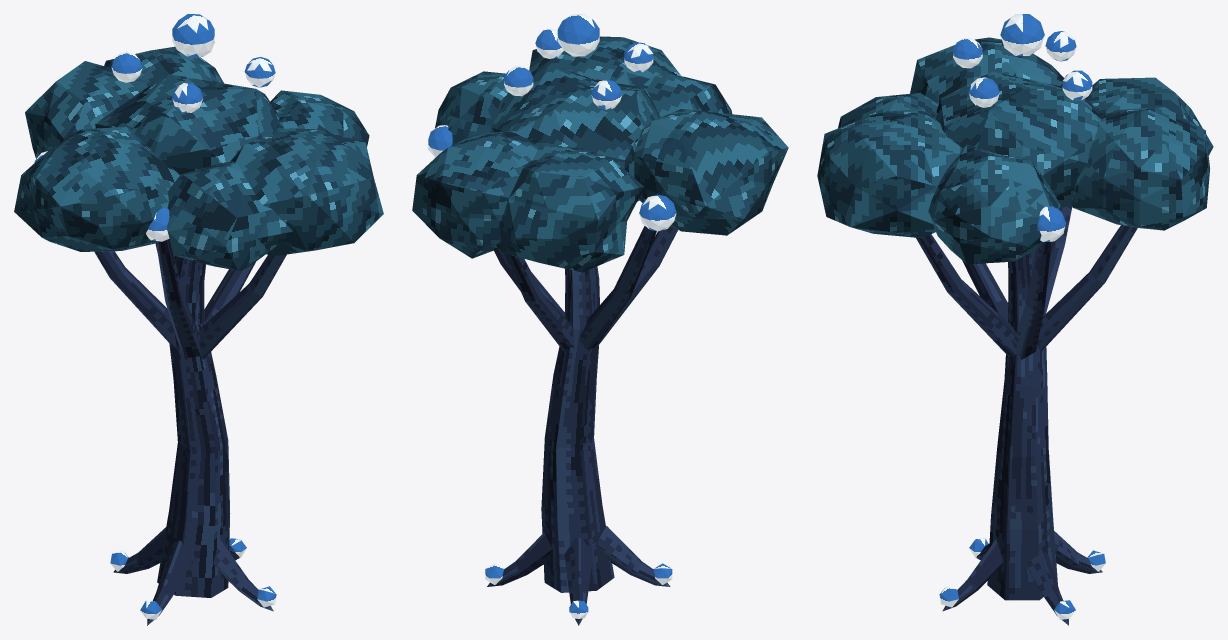
Rendered from neural_tree.glb.
3 views of the same model, side by side, from view 1: azimuth 30°, elevation 25°; view 2: azimuth 150°, elevation 25°; view 3: azimuth 270°, elevation 25° (orthographic).
Parts seen in each view (by area): view 1: neural_tree; view 2: neural_tree; view 3: neural_tree.
Part boxes in pixels (bbox=[...]): neural_tree: bbox=[14, 14, 383, 625]; neural_tree: bbox=[412, 14, 788, 625]; neural_tree: bbox=[817, 14, 1213, 625].
Bounding box in the file's own units: 1.93 × 3.2 × 1.99.
Materials: 3 (3 with a texture image).
